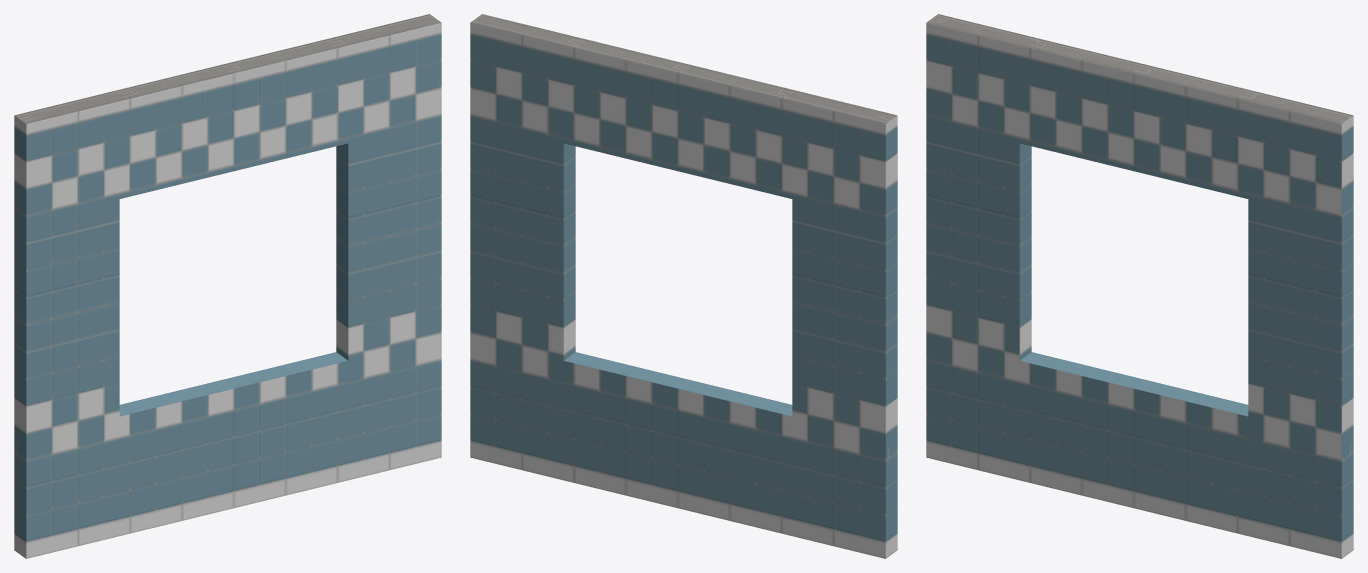
File: wall8_8.fbx
3 views of the same model, side by side, from view 1: azimuth 30°, elevation 25°; view 2: azimuth 150°, elevation 25°; view 3: azimuth 330°, elevation 25° (orthographic).
Visible parts, largest first — view 1: wall8_bathroom_h; view 2: wall8_bathroom_h; view 3: wall8_bathroom_h.
Part boxes in pixels (x1=…): wall8_bathroom_h: x1=14, y1=14, x2=441, y2=558; wall8_bathroom_h: x1=470, y1=14, x2=897, y2=558; wall8_bathroom_h: x1=926, y1=14, x2=1353, y2=558.
Bounding box in the file's own units: 400 × 400 × 20.
